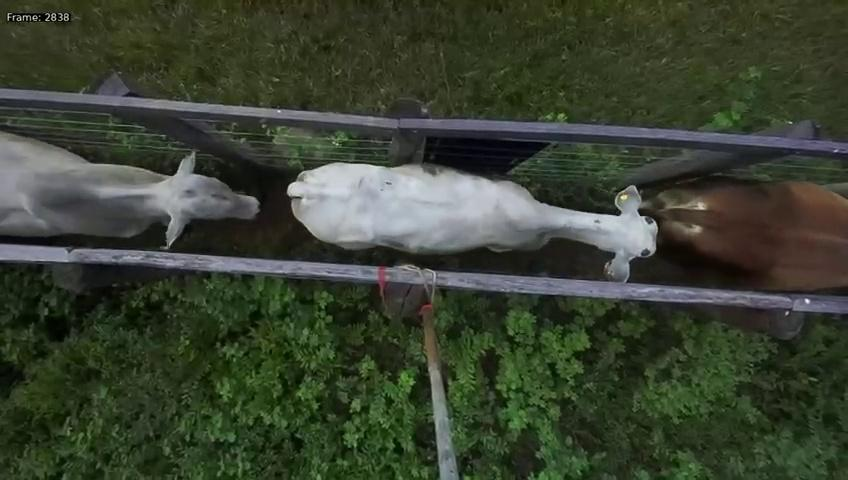cattle: (284, 126, 658, 281)
